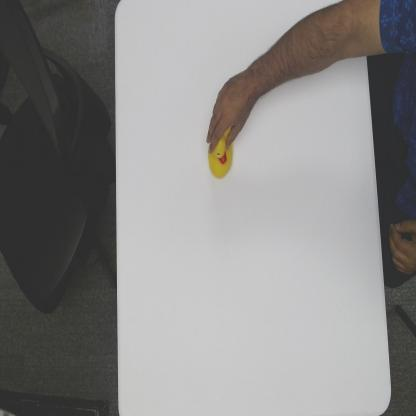Arm: (254, 0, 368, 103)
Duck: (207, 126, 234, 181)
Hand: (207, 71, 255, 157)
